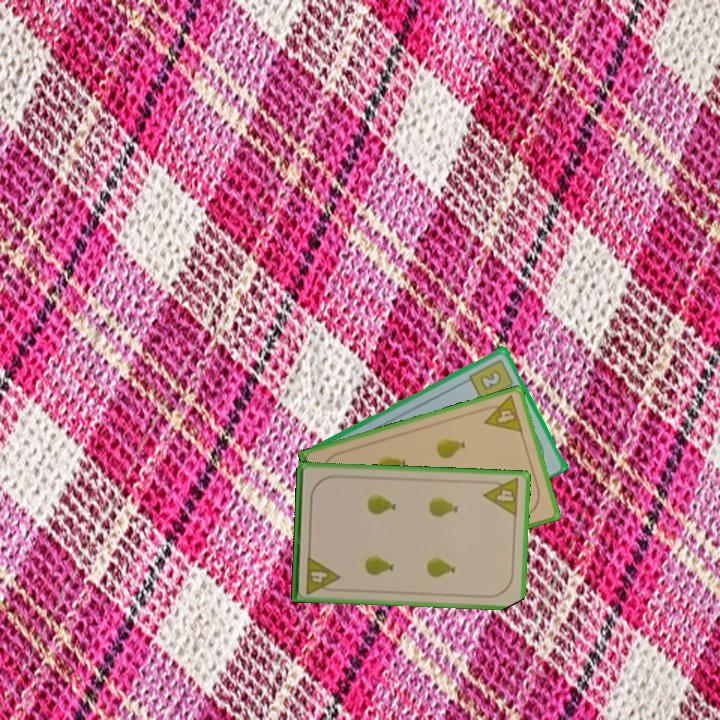2b: (466, 355, 518, 403)
4p: (477, 392, 526, 435), (480, 475, 522, 519), (302, 552, 342, 597)
